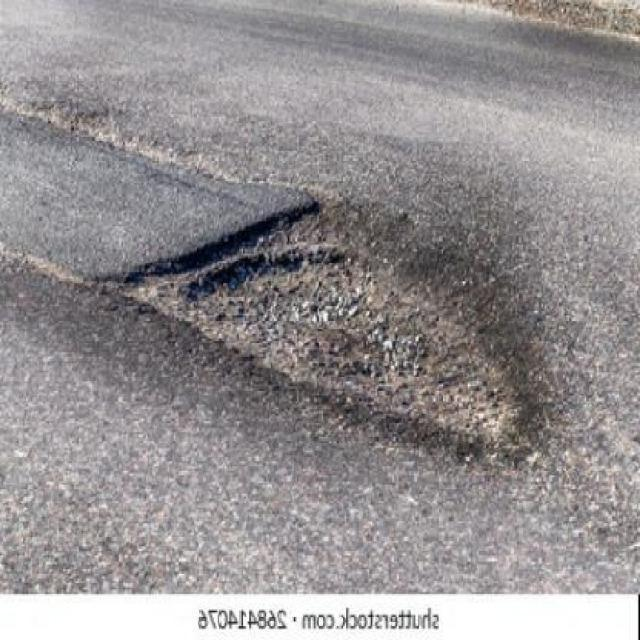pothole: (116, 196, 555, 467)
